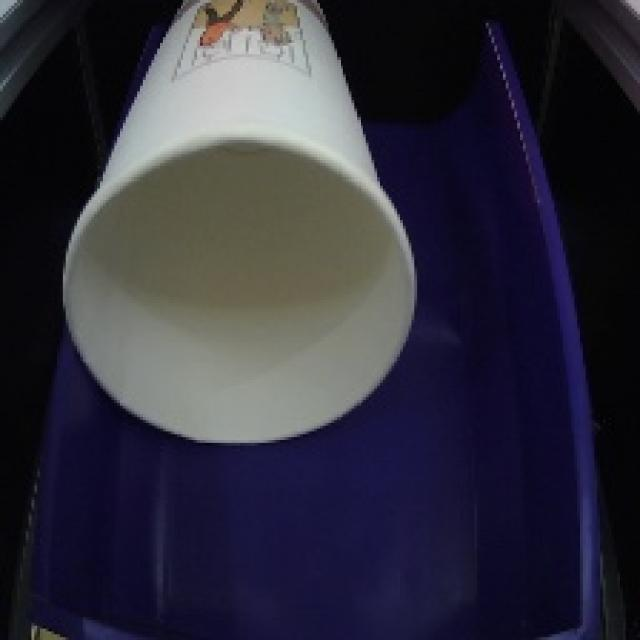cups: (47, 0, 436, 461)
